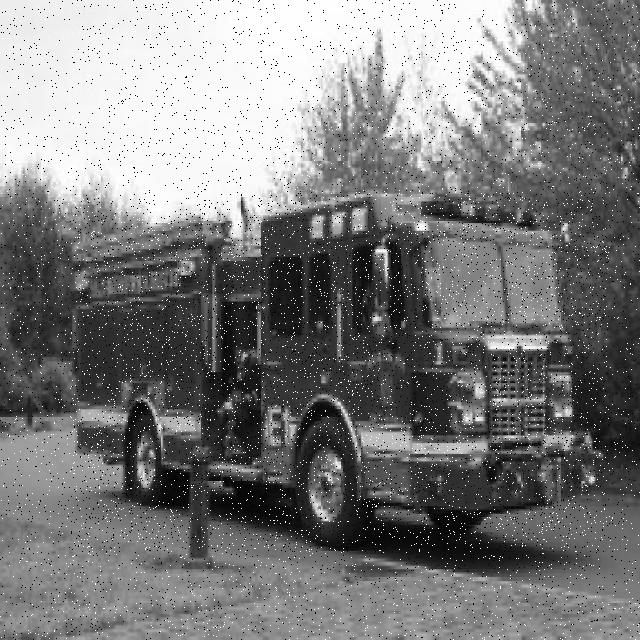Fire Truck: (71, 192, 607, 552)
